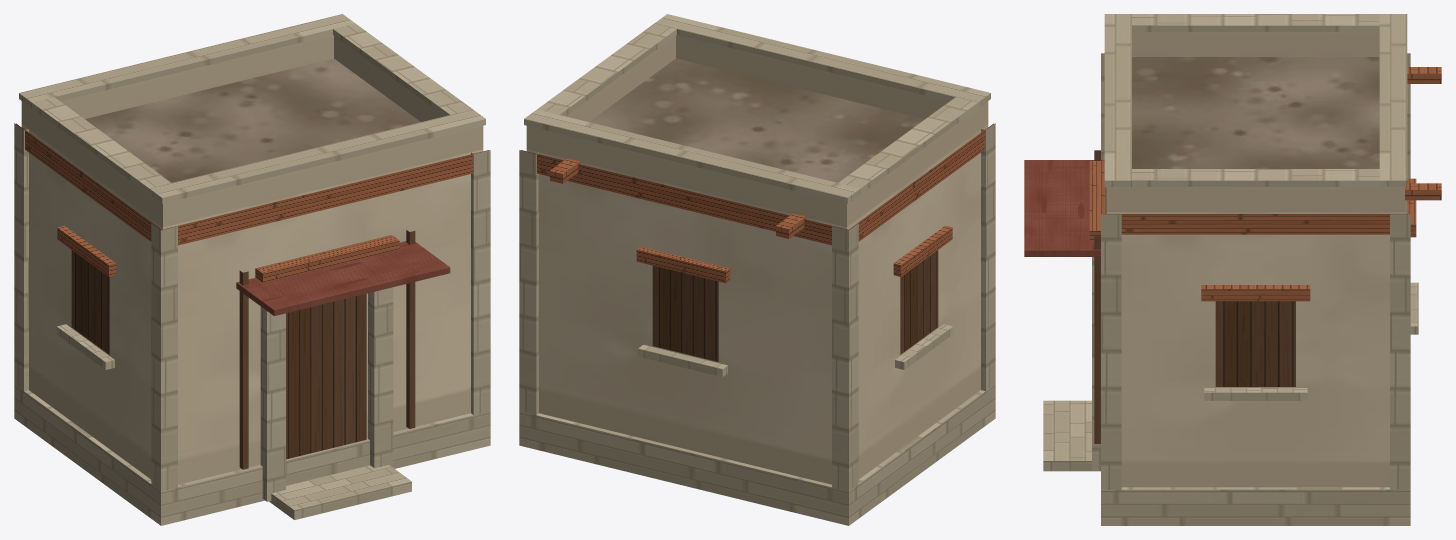
The model's file is ae_sand_stone_small_booth_lod0.glb.
The picture shows the model from 3 angles, left to right: view 1: azimuth 30°, elevation 25°; view 2: azimuth 150°, elevation 25°; view 3: azimuth 270°, elevation 25°; orthographic projection. The views are drawn at different scales.
Parts seen in each view (by area): view 1: ae_sand_stone_small_booth_lod0; view 2: ae_sand_stone_small_booth_lod0; view 3: ae_sand_stone_small_booth_lod0.
Boxes of the visible parts, x1,y1,x2,y2 form: ae_sand_stone_small_booth_lod0: (14,14,490,525); ae_sand_stone_small_booth_lod0: (519,14,995,525); ae_sand_stone_small_booth_lod0: (1024,14,1441,525).
Size of the model in its own units: 3.64 by 3.31 by 3.64.
Materials: 1 (1 with a texture image).
